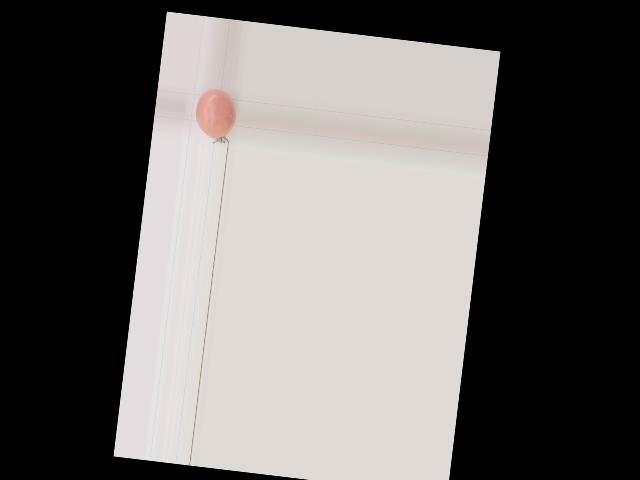tomato: (192, 87, 238, 140)
